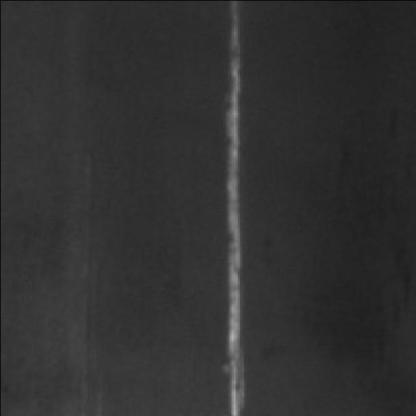scratches: (216, 4, 254, 416)
